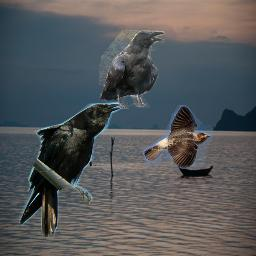Crow: (19, 102, 121, 238), (99, 30, 165, 109)
Swallow: (143, 105, 213, 169)
